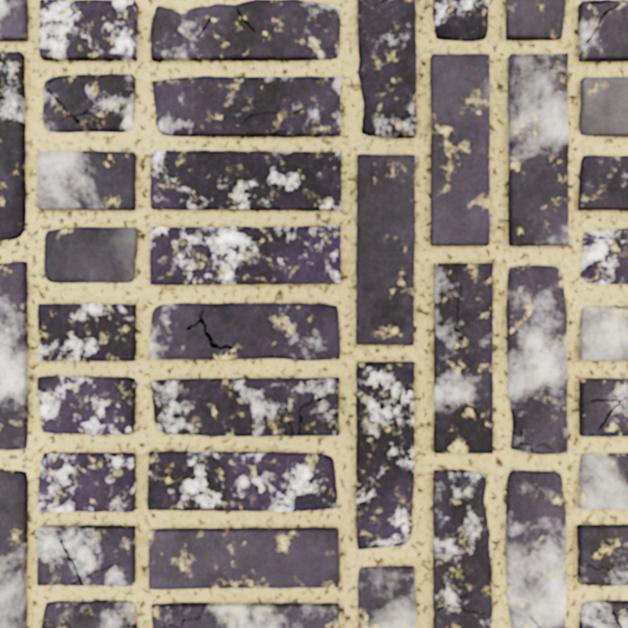brick: (149, 527, 338, 589), (507, 53, 568, 245), (506, 265, 567, 454), (150, 150, 341, 210), (147, 451, 337, 511), (151, 0, 340, 60), (152, 76, 340, 136), (430, 54, 489, 245), (433, 263, 492, 453), (151, 377, 339, 436), (356, 154, 414, 345), (150, 226, 340, 284), (356, 361, 414, 549), (150, 303, 339, 360), (505, 470, 565, 627), (433, 470, 492, 627), (358, 0, 415, 137), (39, 0, 137, 60), (37, 525, 135, 585), (38, 452, 135, 511), (37, 151, 135, 209), (37, 376, 135, 434), (38, 303, 135, 360), (43, 74, 135, 132), (44, 227, 137, 282), (0, 261, 27, 449), (0, 51, 25, 240), (151, 602, 338, 627), (0, 470, 27, 627), (358, 566, 415, 627), (577, 524, 627, 585), (578, 0, 627, 61), (579, 77, 627, 136), (578, 452, 627, 509), (579, 378, 627, 436), (578, 305, 627, 360), (578, 155, 627, 209), (41, 600, 136, 627), (581, 229, 627, 284), (506, 0, 565, 39), (433, 0, 487, 41), (579, 600, 627, 627), (0, 0, 27, 41)
crack: (46, 75, 104, 124), (59, 538, 118, 586), (276, 391, 325, 436), (585, 0, 625, 44), (434, 590, 486, 615), (590, 395, 627, 430), (518, 429, 552, 453), (162, 608, 204, 627), (532, 65, 568, 77), (0, 83, 21, 100), (611, 607, 623, 627), (0, 60, 22, 69), (529, 615, 541, 627), (587, 0, 611, 5), (374, 0, 389, 5)
